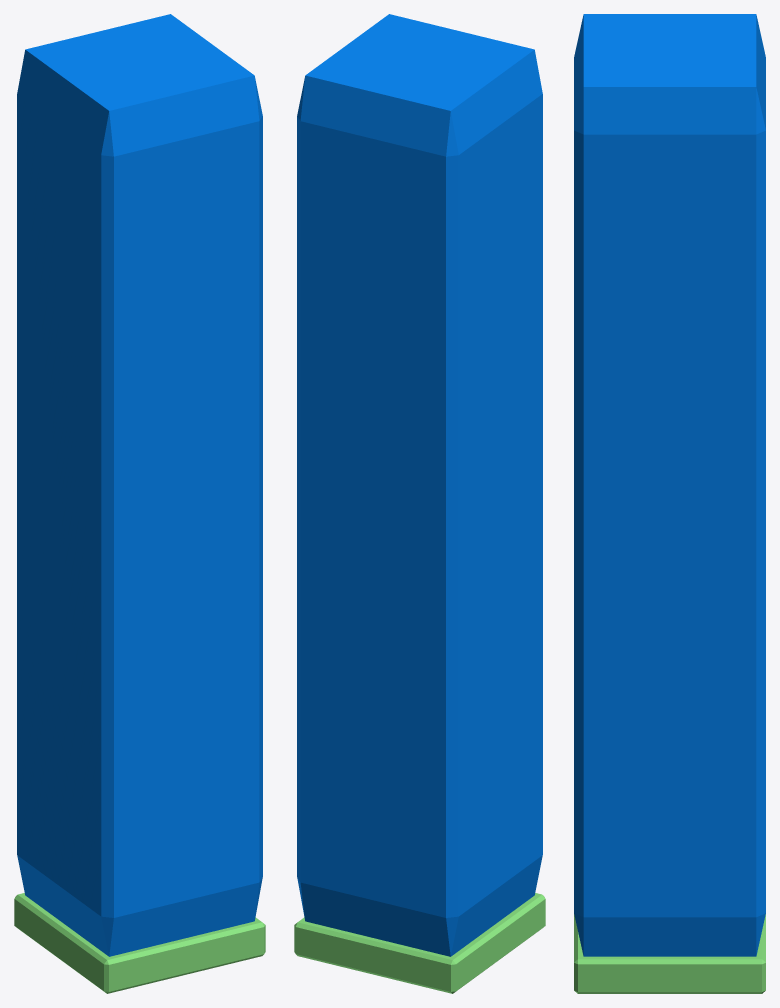
Rendered from HightWall.fbx.
3 renders of one model, left to right at view 1: azimuth 30°, elevation 25°; view 2: azimuth 150°, elevation 25°; view 3: azimuth 270°, elevation 25°, orthographic. The views are drawn at different scales.
Parts seen in each view (by area): view 1: pCube2, pCube1; view 2: pCube2, pCube1; view 3: pCube2, pCube1.
Boxes of the visible parts, x1=… form: pCube2: x1=17, y1=14, x2=262, y2=956; pCube1: x1=14, y1=893, x2=265, y2=993; pCube2: x1=297, y1=14, x2=542, y2=956; pCube1: x1=294, y1=893, x2=545, y2=993; pCube2: x1=574, y1=14, x2=765, y2=956; pCube1: x1=574, y1=914, x2=765, y2=993.
Bounding box in the file's own units: 1 × 5.2 × 1.
